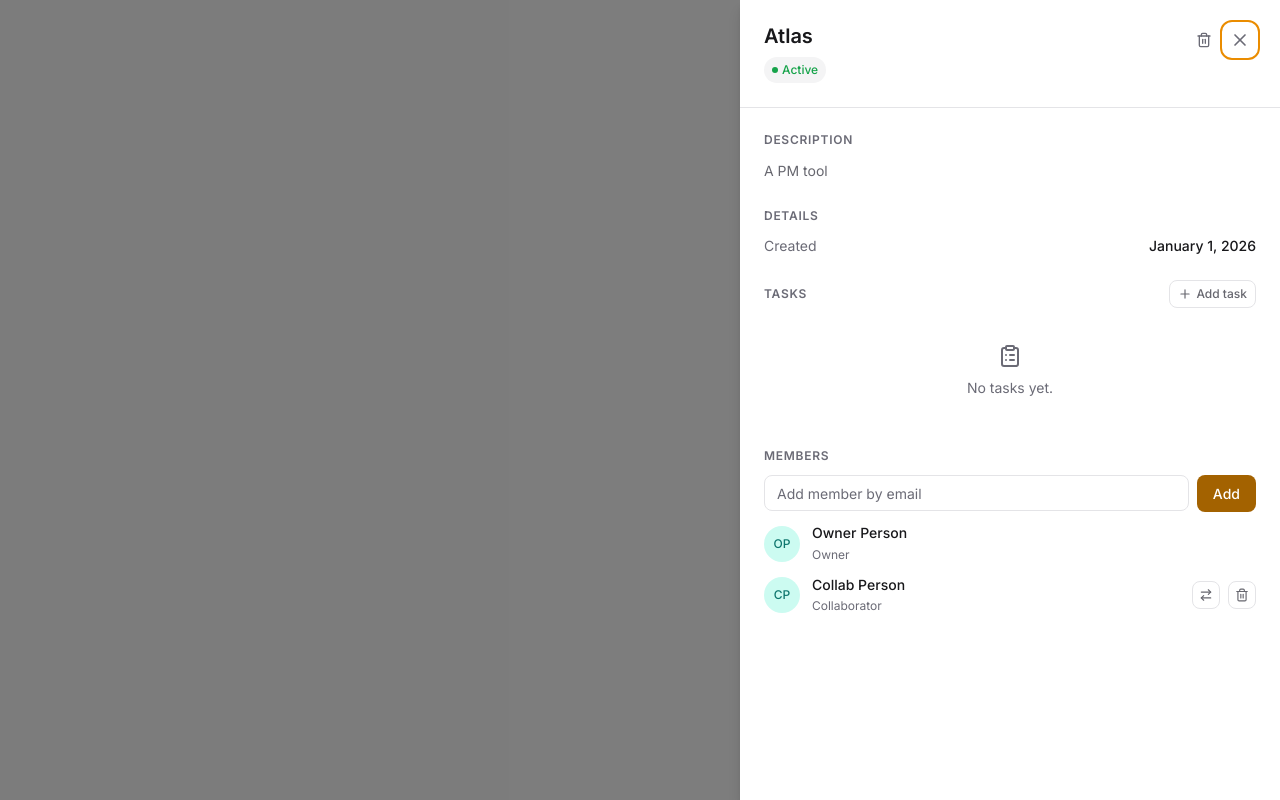
Test: ProjectSlideOver project-switch reset › should clear an in-progress remove-member confirm when the project prop changes
The image size is (1280, 800).
Click the button named "Remove Collab Person". click: (1242, 595)
box: left=1228, top=581, right=1256, bottom=609
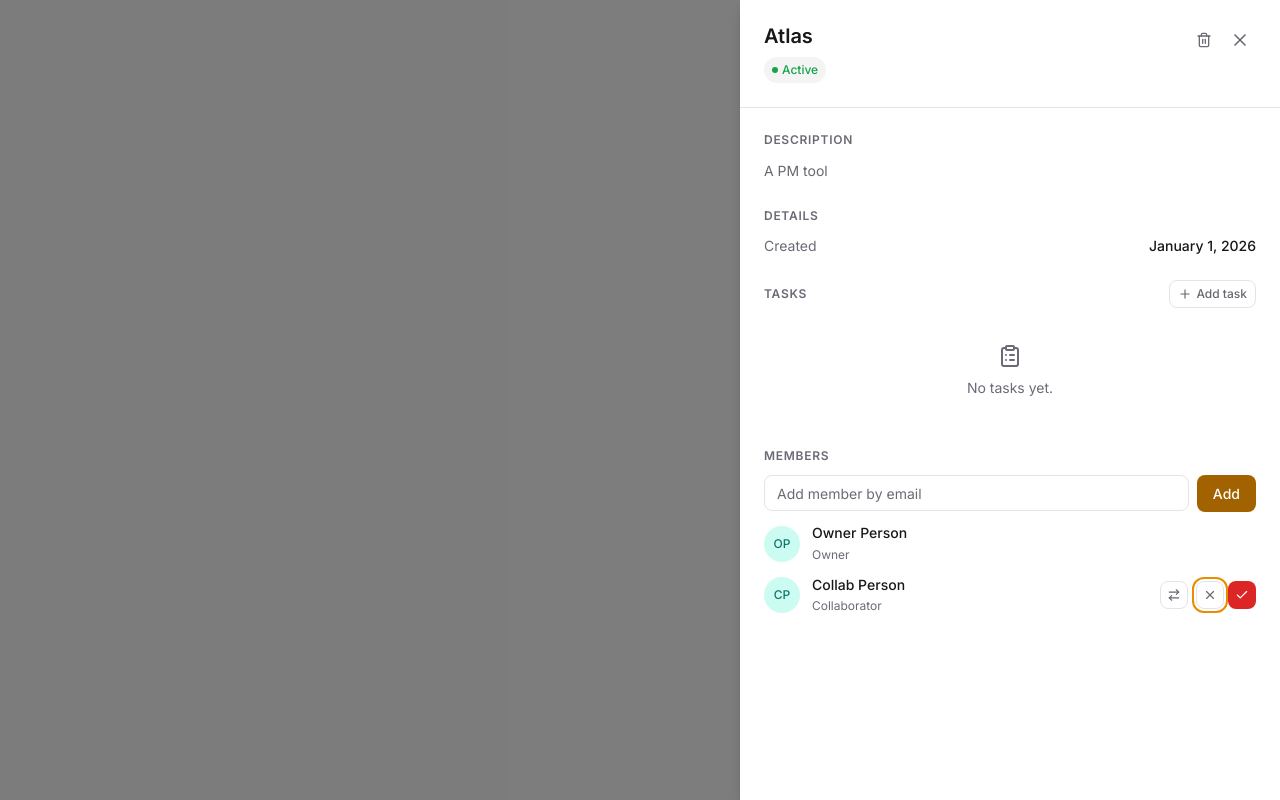
Now the button named "Cancel remove" is shown, box left=1196, top=581, right=1224, bottom=609
